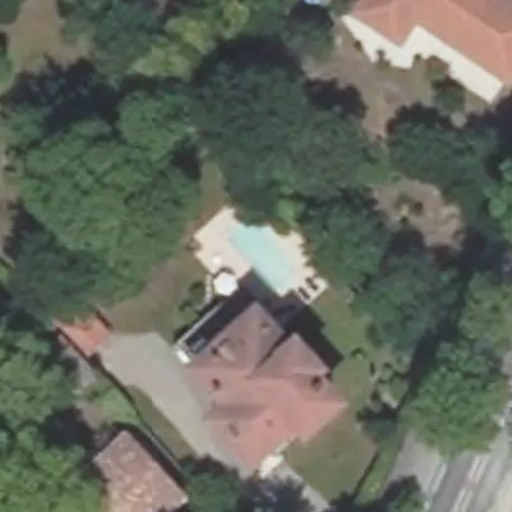pool: (219, 227, 299, 264)
